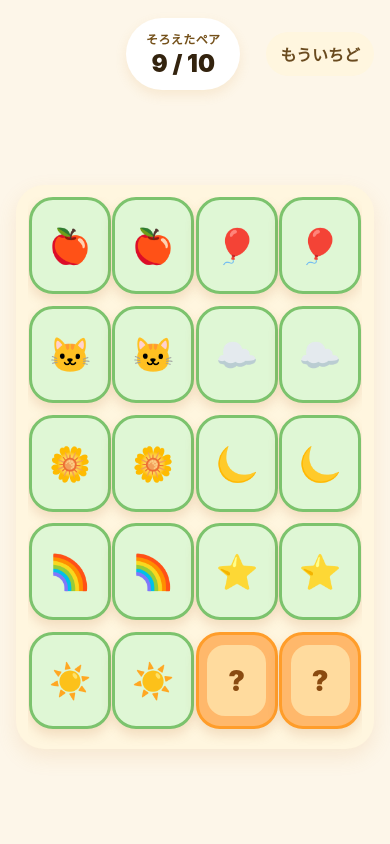
Test: GameScreen › shows the clear overlay after the last pair
Click the button with test id "memory-card-unicorn-a". click: [237, 680]
box: [195,632,278,729]
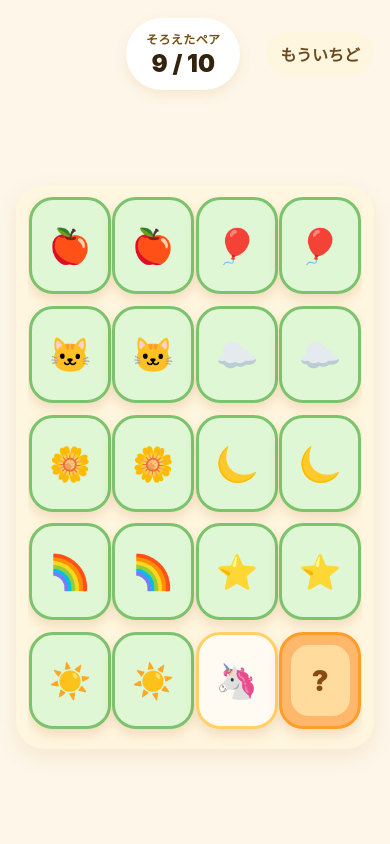
Click the button with test id "memory-card-unicorn-b". click: [320, 680]
box: [278,632,362,729]
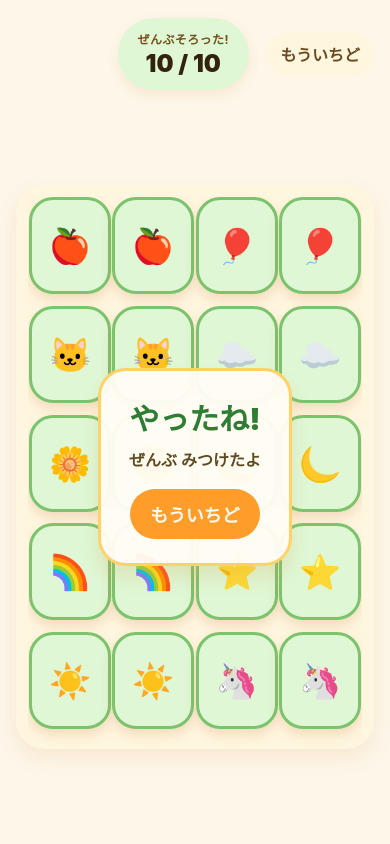
Expected: the text "やったね!" is shown, [129,395,261,439]
